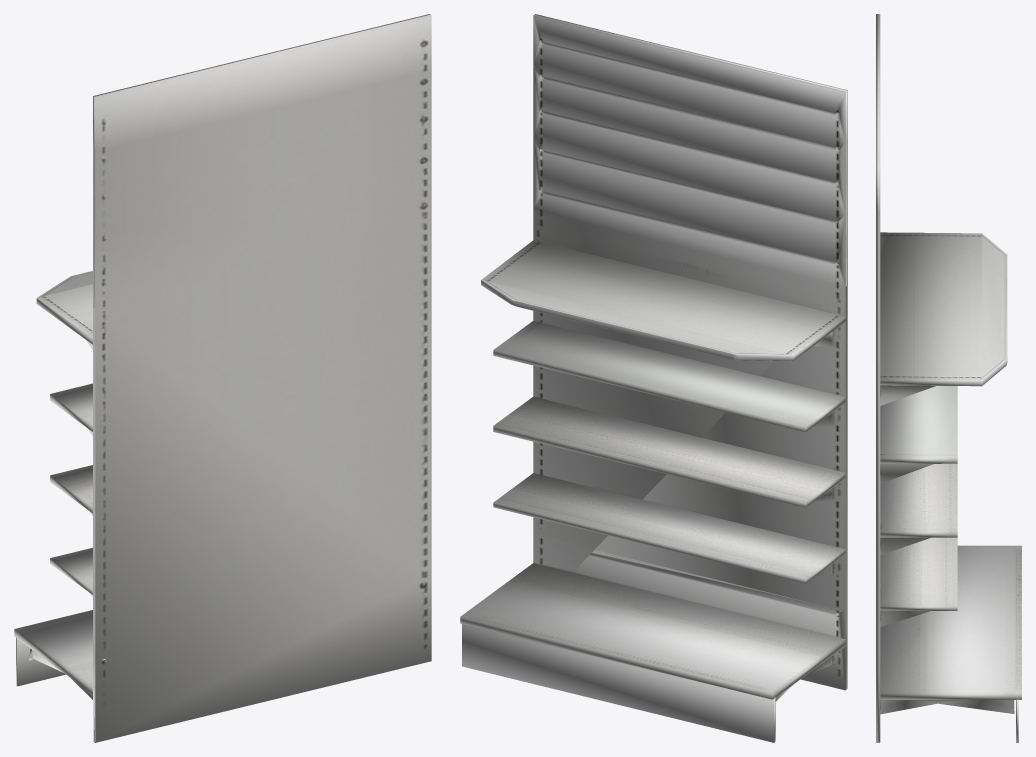
Rendered from mall-retail-wall-bay.glb.
The picture shows the model from 3 angles, left to right: view 1: azimuth 30°, elevation 25°; view 2: azimuth 150°, elevation 25°; view 3: azimuth 270°, elevation 25°; orthographic projection. The views are drawn at different scales.
Parts seen in each view (by area): view 1: retail-wall-bay; view 2: retail-wall-bay; view 3: retail-wall-bay.
Boxes of the visible parts, box(x1,y1,x2,y2) form: retail-wall-bay: box(14, 14, 431, 742); retail-wall-bay: box(460, 14, 847, 742); retail-wall-bay: box(876, 14, 1021, 742).
Bounding box in the file's own units: 1.2 × 2.2 × 0.5002.
Materials: 1 (1 with a texture image).
